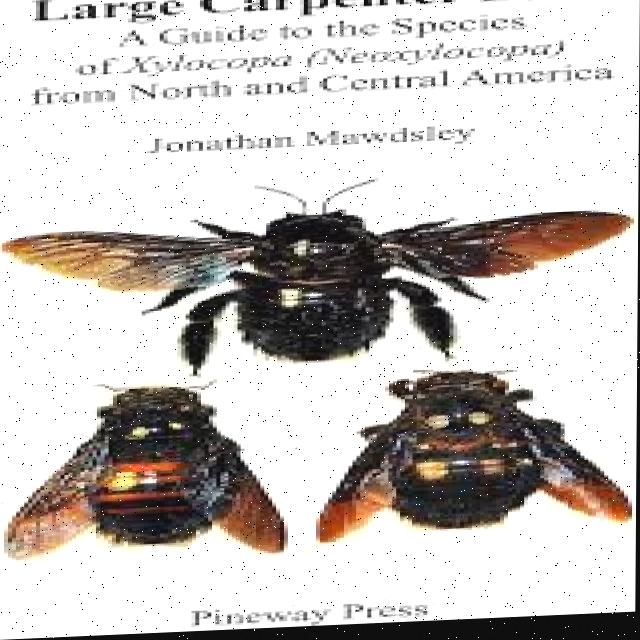Xylocopa: (23, 167, 596, 382), (329, 358, 638, 554), (7, 371, 307, 565)
